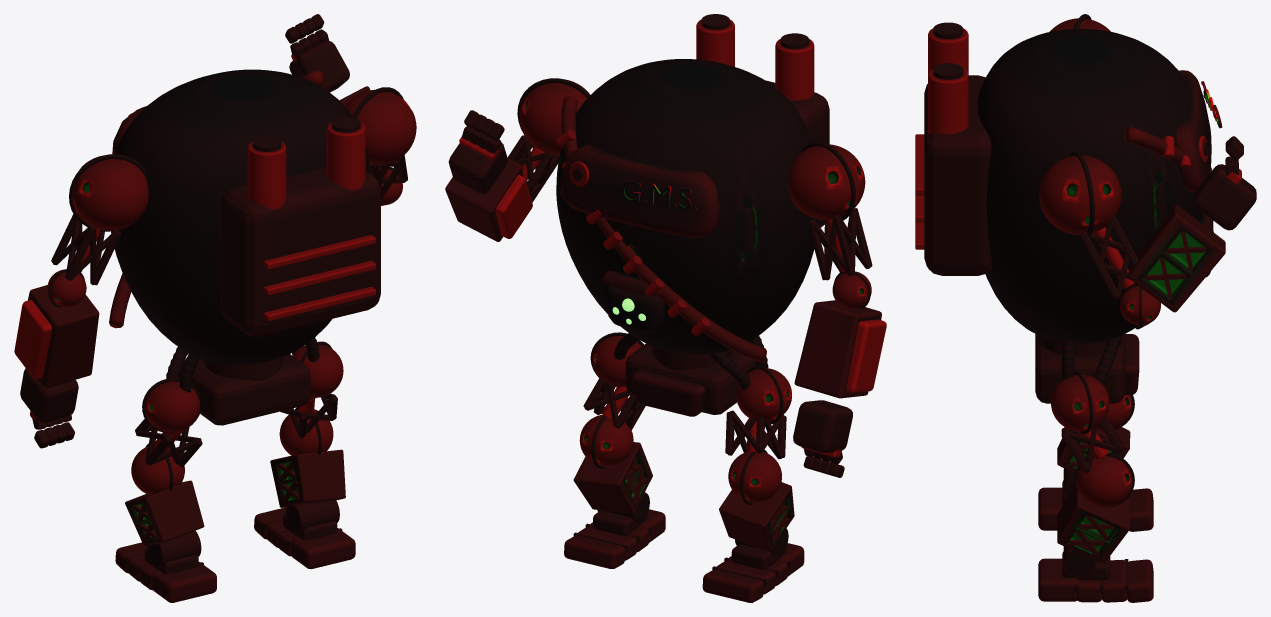
Rendered from mf_standard_pattern_i_everest.glb.
The picture shows the model from 3 angles, left to right: view 1: azimuth 30°, elevation 25°; view 2: azimuth 150°, elevation 25°; view 3: azimuth 270°, elevation 25°; orthographic projection. The views are drawn at different scales.
Visible parts, largest first — view 1: chest, reactor, pelvis_block, shoulder_pod_l, fore_l, shoulder_pod_r, shin_r, shin_l, stack_1, stack_-1, hip_pod_l, fore_plate_l (+18 smaller); view 2: chest, chest_plate, fore_l, shoulder_pod_l, pelvis_block, strap, shin_r, shin_l, shoulder_pod_r, fore_r, palm_l, pelvis_plate (+23 smaller); view 3: chest, reactor, fore_r, shoulder_pod_r, shin_r, pelvis_block, palm_r, chest_plate, hip_pod_r, stack_1, knee_pod_r, heel_r (+20 smaller).
Part boxes in pixels (bbox=[...]): chest: bbox=[111, 69, 370, 365]; reactor: bbox=[220, 166, 380, 336]; pelvis_block: bbox=[179, 354, 310, 425]; shoulder_pod_l: bbox=[72, 156, 148, 230]; fore_l: bbox=[27, 285, 99, 387]; shoulder_pod_r: bbox=[345, 90, 416, 165]; shin_r: bbox=[270, 449, 345, 507]; shin_l: bbox=[125, 480, 204, 546]; stack_1: bbox=[326, 122, 365, 189]; stack_-1: bbox=[247, 141, 286, 209]; hip_pod_l: bbox=[144, 381, 199, 432]; fore_plate_l: bbox=[14, 299, 51, 379]; chest: bbox=[556, 59, 819, 354]; chest_plate: bbox=[560, 144, 719, 237]; fore_l: bbox=[794, 300, 881, 398]; shoulder_pod_l: bbox=[788, 144, 865, 220]; pelvis_block: bbox=[625, 343, 756, 414]; strap: bbox=[561, 96, 766, 362]; shin_r: bbox=[573, 442, 652, 513]; shin_l: bbox=[719, 482, 794, 552]; shoulder_pod_r: bbox=[519, 80, 590, 154]; fore_r: bbox=[445, 158, 523, 241]; palm_l: bbox=[793, 400, 852, 452]; pelvis_plate: bbox=[632, 370, 705, 416]; chest: bbox=[977, 29, 1202, 343]; reactor: bbox=[924, 75, 992, 275]; fore_r: bbox=[1129, 205, 1225, 312]; shoulder_pod_r: bbox=[1039, 155, 1121, 234]; shin_r: bbox=[1057, 483, 1130, 563]; pelvis_block: bbox=[1035, 334, 1125, 403]; palm_r: bbox=[1194, 164, 1256, 230]; chest_plate: bbox=[1175, 70, 1211, 192]; hip_pod_r: bbox=[1051, 374, 1109, 431]; stack_1: bbox=[928, 69, 968, 134]; knee_pod_r: bbox=[1076, 456, 1132, 507]; heel_r: bbox=[1038, 558, 1079, 601].
Bounding box in the file's own units: 0.7854 × 0.9313 × 0.5687.
